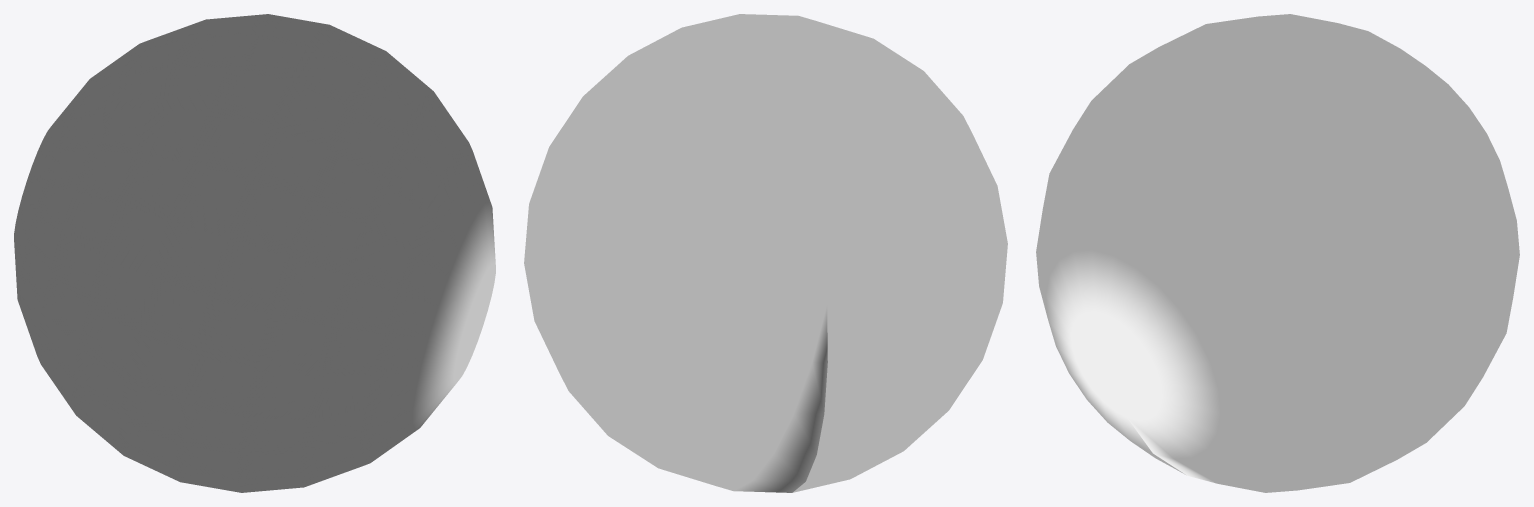
File: stg220_sky.obj
3 views of the same model, side by side, from view 1: azimuth 30°, elevation 25°; view 2: azimuth 150°, elevation 25°; view 3: azimuth 270°, elevation 25° (orthographic).
Parts seen in each view (by area): view 1: polygon0; view 2: polygon0; view 3: polygon0.
Boxes of the visible parts, x1=… form: polygon0: x1=14, y1=14, x2=495, y2=492; polygon0: x1=524, y1=14, x2=1007, y2=492; polygon0: x1=1036, y1=14, x2=1519, y2=492.
Size of the model in its own units: 27045 by 26822 by 27062.
Materials: 8 (8 with a texture image).
